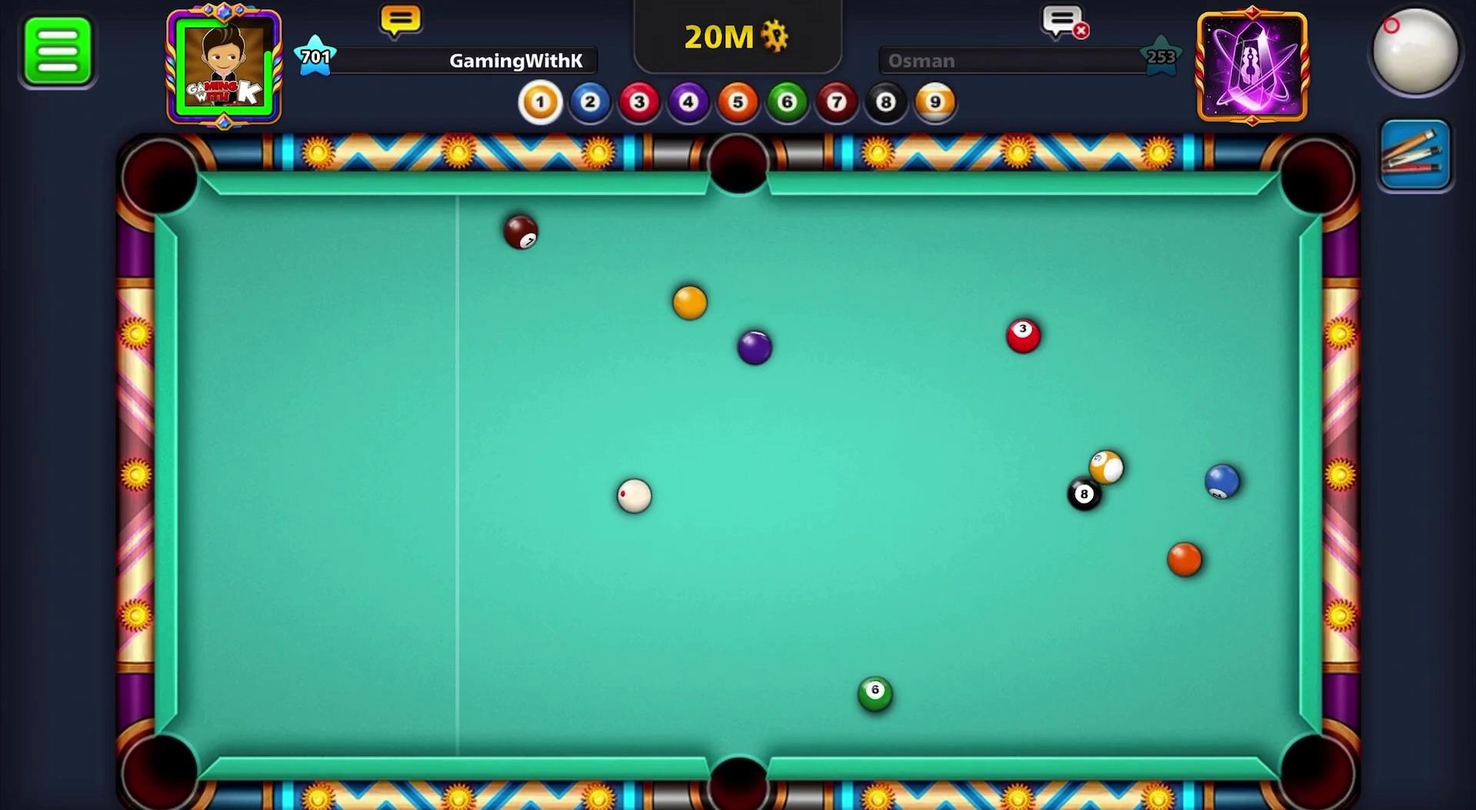Ball: (1086, 440, 1134, 490), (1002, 310, 1045, 362), (669, 277, 710, 327), (1163, 537, 1207, 582), (498, 211, 544, 253), (852, 673, 896, 715), (1204, 456, 1242, 500), (735, 327, 774, 369), (1068, 476, 1103, 510)
Hole: (1265, 713, 1364, 809), (110, 717, 212, 809), (1269, 132, 1364, 230), (112, 132, 205, 225), (697, 123, 782, 206), (685, 741, 788, 809)
Play_Area: (178, 194, 1301, 760)
Spin: (1341, 0, 1474, 114)
White: (609, 473, 657, 517)
